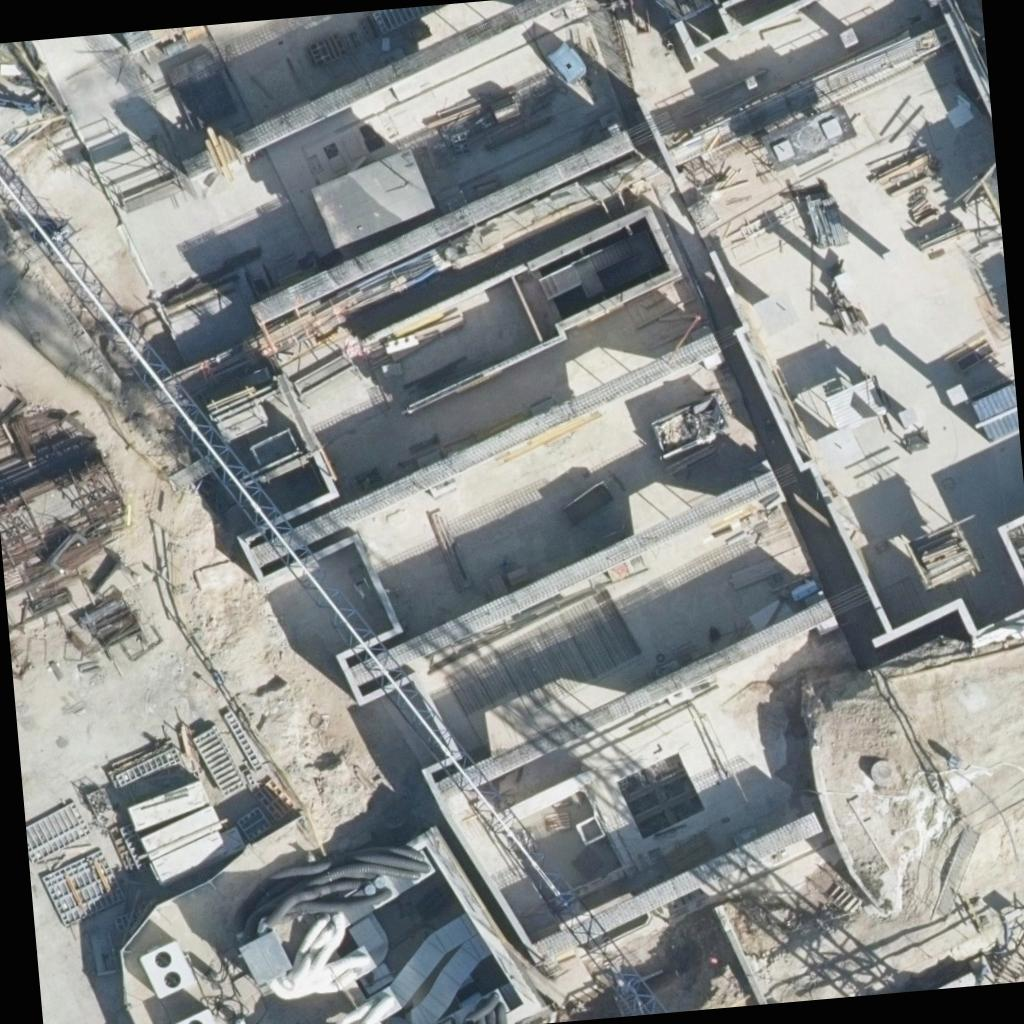zuraw_wiezowy: (0, 34, 689, 1024)
